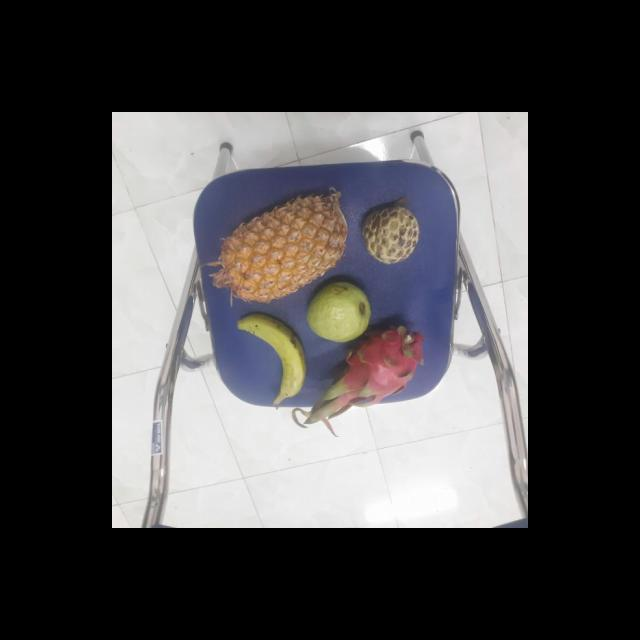Sakya fruit: (358, 203, 419, 263)
banana: (234, 312, 306, 403)
guava: (304, 281, 372, 344)
pineapple: (213, 190, 346, 304)
pitaya: (332, 326, 420, 406)
